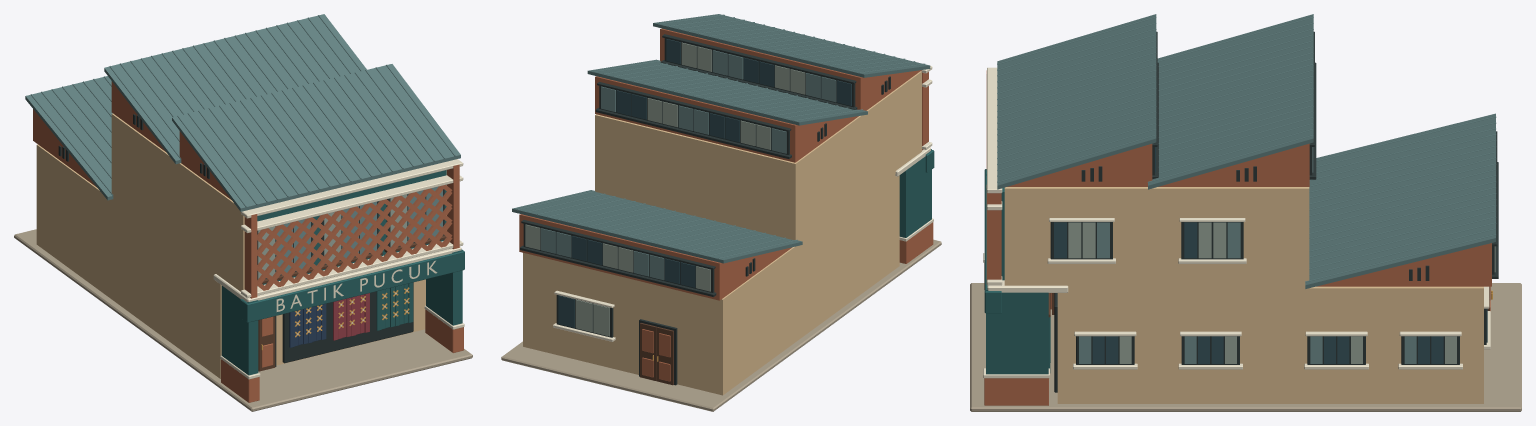
3 views of the same model, side by side, from view 1: azimuth 30°, elevation 25°; view 2: azimuth 150°, elevation 25°; view 3: azimuth 270°, elevation 25° (orthographic). The views are drawn at different scales.
Visible parts, largest first — view 1: Sawtooth north lights, Party walls and rear workshop, Five-foot way, Terracotta brise soleil, Printed cloth display, Casements and sills, Entrance joinery, Cast lettering; view 2: Party walls and rear workshop, Sawtooth north lights, Casements and sills, Five-foot way, Entrance joinery; view 3: Sawtooth north lights, Party walls and rear workshop, Five-foot way, Casements and sills.
Part boxes in pixels (x1,y1,x2,y2): Sawtooth north lights: (25,14,460,211); Party walls and rear workshop: (36,113,463,378); Five-foot way: (14,229,472,411); Terracotta brise soleil: (257,185,452,290); Printed cloth display: (289,282,413,347); Casements and sills: (257,186,446,283); Entrance joinery: (258,316,276,371); Cast lettering: (276,260,437,311); Party walls and rear workshop: (523,65,932,395); Sawtooth north lights: (512,14,930,300); Casements and sills: (520,34,857,341); Five-foot way: (501,147,941,411); Entrance joinery: (639,319,677,385); Sawtooth north lights: (997,14,1496,288); Party walls and rear workshop: (986,67,1483,403); Five-foot way: (970,169,1521,411); Casements and sills: (1047,31,1498,369).
Bounding box in the file's own units: 8.86 × 9.04 × 16.48.
